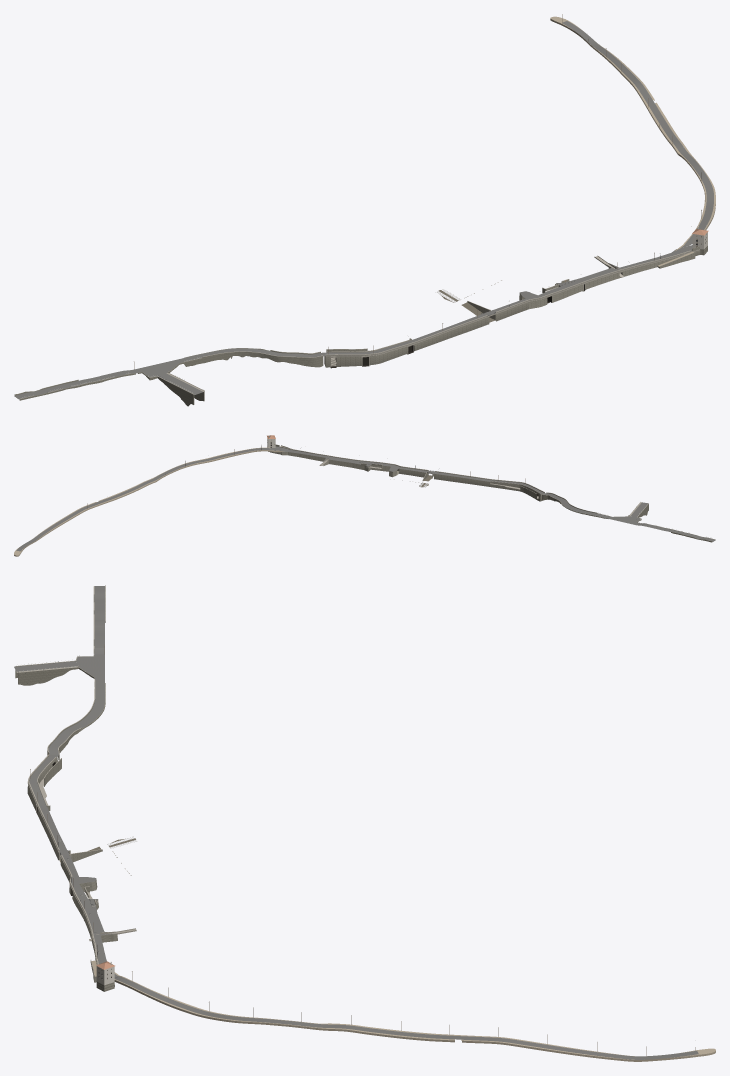
The model's file is lo_muro.glb.
3 renders of one model, top to bottom at view 1: azimuth 30°, elevation 25°; view 2: azimuth 150°, elevation 25°; view 3: azimuth 270°, elevation 25°, orthographic. The views are drawn at different scales.
Visible parts, largest first — view 1: LMV8_Acceso_puente_muros.001, LMV8_Acceso_puente_calzada.001, LMV8_Carretera_calzada.001, LM_Paramento_v8.001, LM_Paramento_v8.002, LMV8_Carretera_arcen.001; view 2: LM_Paramento_v8.001, LMV8_Carretera_calzada.001, LMV8_Acceso_puente_calzada.001, LM_Paramento_v8.002, LMV8_Carretera_arcen.001, LMV8_Carretera_faldon.001, LMV8_Acceso_puente_muros.001, HIP_LM_VIAL_SUR_v01.002; view 3: LMV8_Carretera_calzada.001, LMV8_Acceso_puente_calzada.001, LMV8_Carretera_arcen.001, LM_Paramento_v8.001, LMV8_Carretera_faldon.001, LMV8_Acceso_puente_muros.001.
Boxes of the visible parts, left/top/right/bottom form: LMV8_Acceso_puente_muros.001: left=14, top=348, right=323, bottom=406; LMV8_Acceso_puente_calzada.001: left=14, top=348, right=326, bottom=399; LMV8_Carretera_calzada.001: left=562, top=21, right=713, bottom=248; LM_Paramento_v8.001: left=519, top=249, right=684, bottom=309; LM_Paramento_v8.002: left=324, top=301, right=528, bottom=367; LMV8_Carretera_arcen.001: left=550, top=16, right=715, bottom=250; LM_Paramento_v8.001: left=281, top=448, right=400, bottom=477; LMV8_Carretera_calzada.001: left=16, top=448, right=278, bottom=551; LMV8_Acceso_puente_calzada.001: left=540, top=493, right=715, bottom=541; LM_Paramento_v8.002: left=399, top=469, right=544, bottom=501; LMV8_Carretera_arcen.001: left=14, top=447, right=283, bottom=555; LMV8_Carretera_faldon.001: left=14, top=450, right=282, bottom=556; LMV8_Acceso_puente_muros.001: left=542, top=492, right=712, bottom=542; HIP_LM_VIAL_SUR_v01.002: left=433, top=472, right=543, bottom=494; LMV8_Carretera_calzada.001: left=114, top=974, right=698, bottom=1059; LMV8_Acceso_puente_calzada.001: left=14, top=586, right=104, bottom=757; LMV8_Carretera_arcen.001: left=114, top=972, right=715, bottom=1059; LM_Paramento_v8.001: left=69, top=877, right=117, bottom=964; LMV8_Carretera_faldon.001: left=114, top=980, right=715, bottom=1061; LMV8_Acceso_puente_muros.001: left=15, top=585, right=105, bottom=760.
Bounding box in the file's own units: 759 × 27.8 × 502.
Materials: 17 (5 with a texture image).
